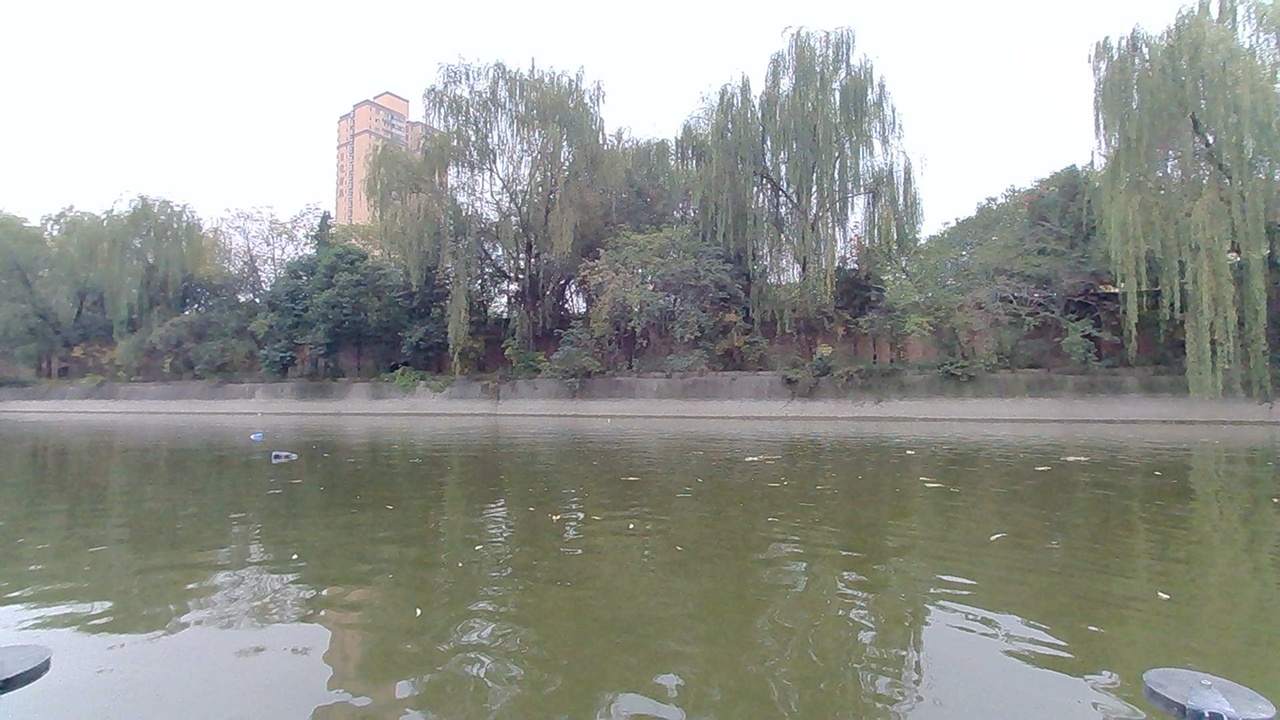bottle: (258, 440, 302, 468), (244, 422, 277, 446)
